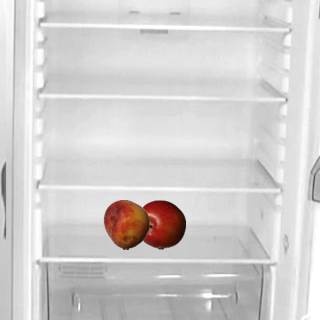Apple Braeburn: (135, 199, 185, 249)
Peach: (101, 199, 151, 249)
